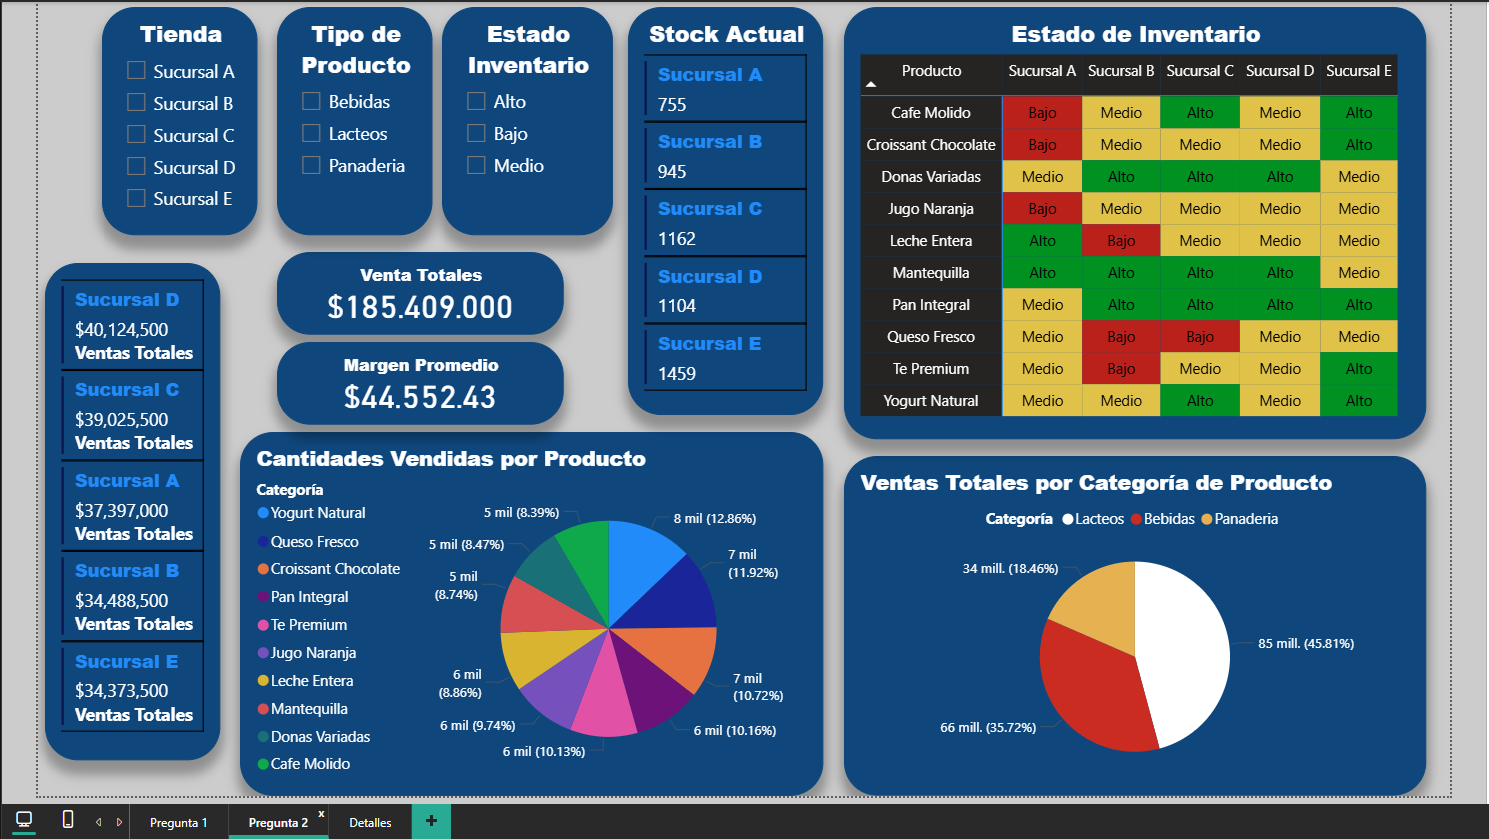

This screenshot's page, from the dashboard's own definition file:
{"tool":"powerbi","page":{"name":"Pregunta 2","canvas":[1280,720],"ordinal":1},"visuals":[{"type":"slicer","title":"Tienda","fields":{"Values":["Dim_Tienda.Tienda"]},"box":[58.1,4.7,141.5,207.1],"z":0},{"type":"multiRowCard","title":"Venta totales de cada Tienda","fields":{"Values":["ventas_robusto.Ventas Totales","Dim_Tienda.Tienda"]},"box":[6.6,237.1,159.3,450.7],"z":1000},{"type":"pieChart","title":"Ventas Totales por Categoría de Producto","fields":{"Category":["Dim_Producto.Categoria_Producto"],"Y":["ventas_robusto.Ventas Totales"]},"box":[730.9,411.4,527.6,308.3],"z":2000},{"type":"pieChart","title":"Cantidades Vendidas por Producto","fields":{"Category":["Dim_Producto.Producto"],"Y":["Sum(ventas_robusto.Cantidad)"]},"box":[182.7,389.8,529.4,329.8],"z":3000},{"type":"pivotTable","title":"Estado de Inventario","fields":{"Columns":["Dim_Tienda.Tienda"],"Values":["Min(inventario_robusto.Estado_Inventario)"],"Rows":["Dim_Producto.Producto"]},"box":[730.9,4.7,527.6,391.7],"z":4000},{"type":"multiRowCard","title":"Stock Actual","fields":{"Values":["Sum(inventario_robusto.Stock_Actual)","Dim_Tienda.Tienda"]},"box":[535.1,4.7,177.1,370.1],"z":5000},{"type":"slicer","title":"Estado Inventario","fields":{"Values":["inventario_robusto.Estado_Inventario"]},"box":[366.4,4.7,154.6,207.1],"z":6000},{"type":"card","title":"Venta Totales","fields":{"Values":["ventas_robusto.Ventas Totales"]},"box":[216.5,226.8,259.6,75],"z":7000},{"type":"card","title":"Margen Promedio","fields":{"Values":["Avg(ventas_robusto.Margen)"]},"box":[216.5,308.3,259.6,75],"z":8000},{"type":"slicer","title":"Tipo de Producto","fields":{"Values":["Dim_Producto.Categoria_Producto"]},"box":[216.5,4.7,141.5,207.1],"z":9000}]}

Visuals, with their boxes in screenshot pixels (x1, y1, x2, y2):
"Tienda" slicer: [95, 5, 252, 234]
"Venta totales de cada Tienda" multiRowCard: [38, 262, 215, 761]
"Ventas Totales por Categoría de Producto" pieChart: [840, 455, 1424, 796]
"Cantidades Vendidas por Producto" pieChart: [233, 431, 819, 796]
"Estado de Inventario" pivotTable: [840, 5, 1424, 439]
"Stock Actual" multiRowCard: [623, 5, 819, 415]
"Estado Inventario" slicer: [436, 5, 608, 234]
"Venta Totales" card: [271, 251, 558, 334]
"Margen Promedio" card: [271, 341, 558, 424]
"Tipo de Producto" slicer: [271, 5, 427, 234]
